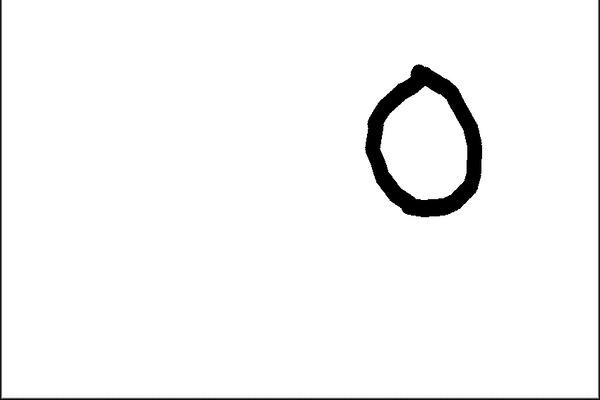O: (351, 53, 493, 222)
